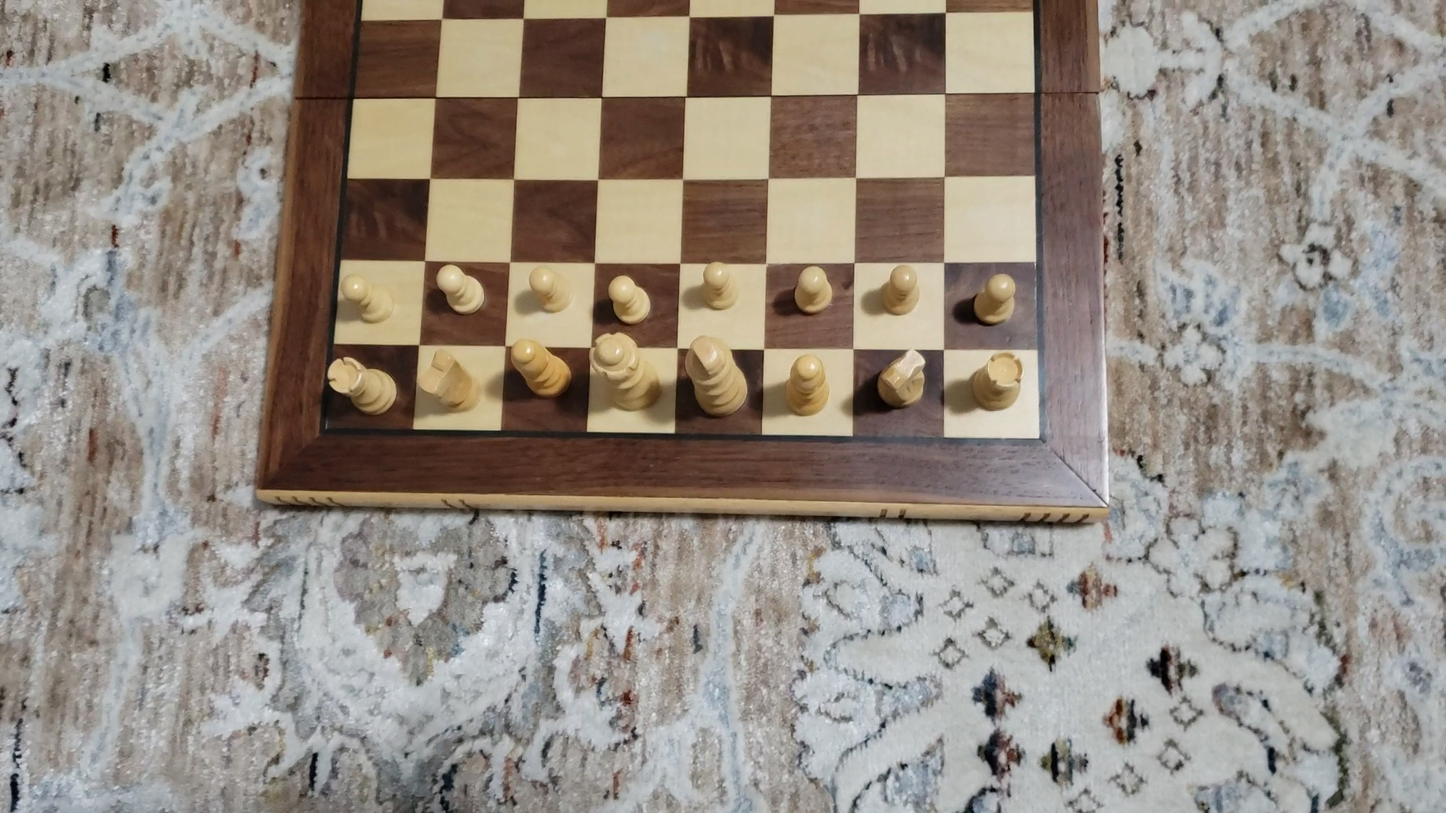white-bishop: (507, 337, 572, 399), (784, 351, 832, 419)
white-king: (685, 333, 751, 420)
white-knight: (422, 347, 482, 417), (869, 347, 929, 413)
white-pawn: (339, 271, 399, 327), (968, 269, 1022, 329), (876, 260, 926, 321), (433, 261, 486, 317), (695, 257, 746, 314), (605, 270, 655, 327), (525, 262, 576, 316), (790, 262, 836, 319)
white-queen: (590, 331, 663, 415)
white-rook: (328, 355, 399, 417), (968, 348, 1027, 415)
